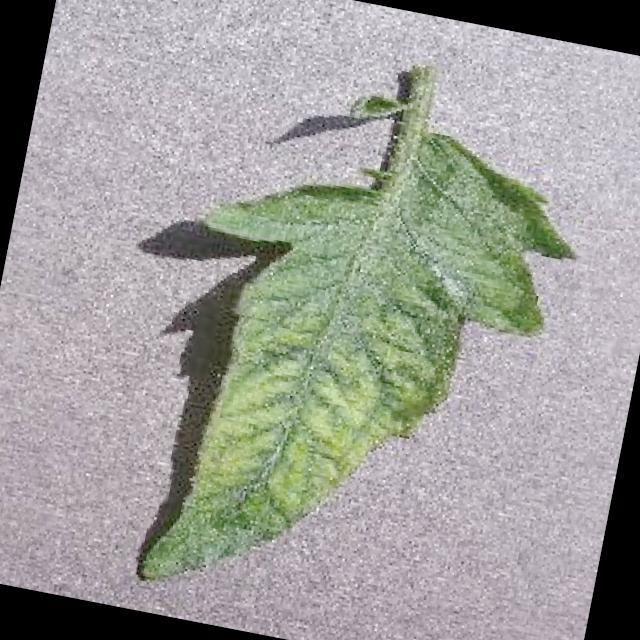Tomato mosaic virus leaf: (116, 88, 596, 640)
